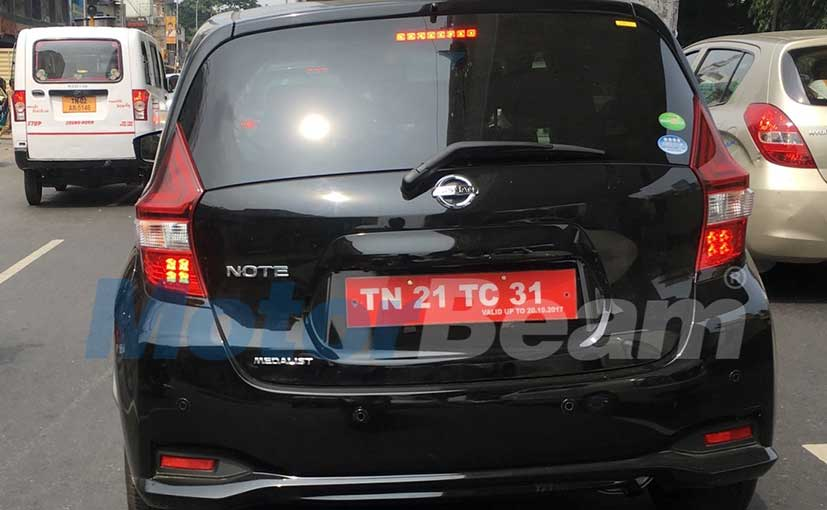number_plate: (335, 259, 585, 329)
